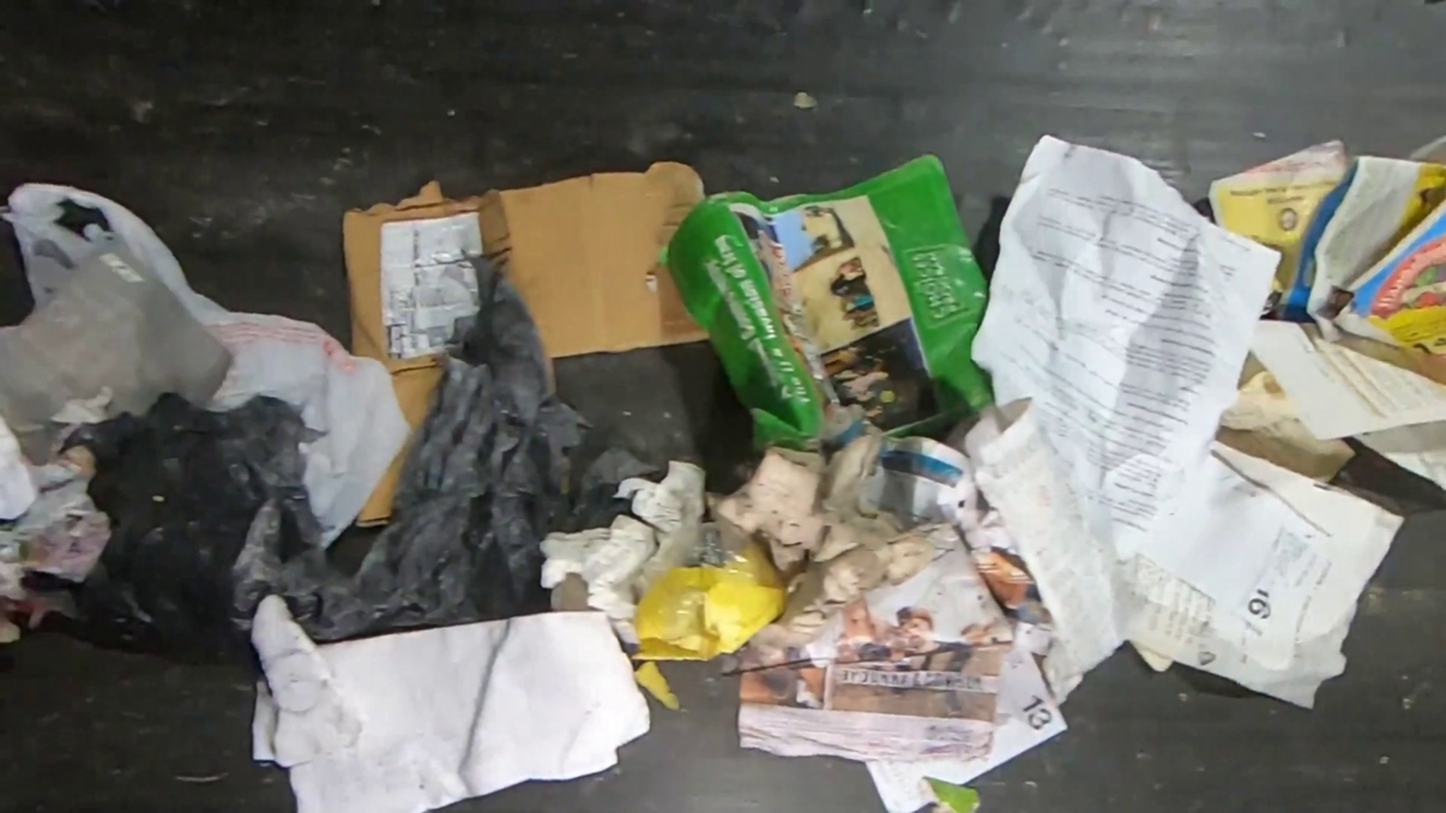cardboard: (342, 161, 709, 526)
plastic: (61, 242, 654, 665), (7, 179, 412, 549), (0, 234, 235, 467), (1216, 347, 1354, 484), (639, 517, 765, 638)
